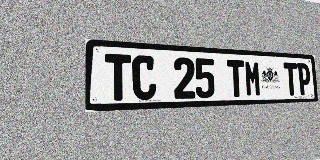2: (173, 57, 195, 99)
5: (195, 58, 215, 98)
C: (132, 55, 156, 100)
M: (244, 60, 261, 97)
P: (297, 63, 311, 95)
T: (105, 54, 131, 101), (227, 60, 245, 97), (283, 62, 298, 96)
